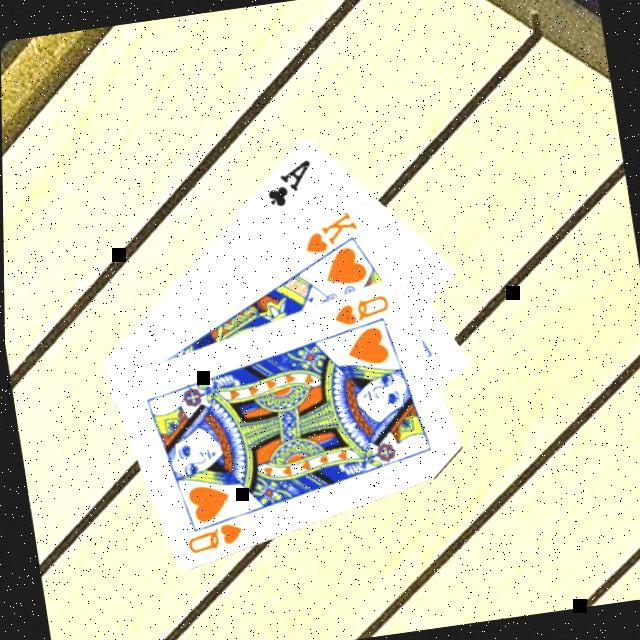AC: (261, 156, 322, 213)
KH: (297, 208, 366, 260)
QH: (180, 510, 253, 559), (330, 292, 396, 332)
